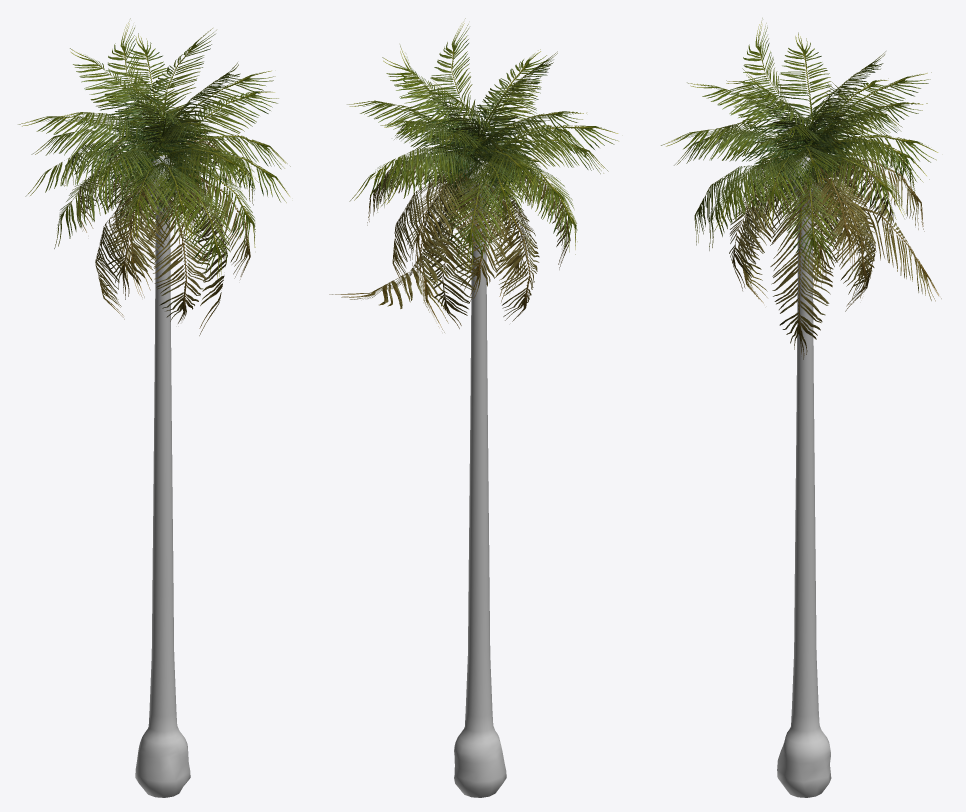
The model's file is SM_Veg_PalmTree_01.FBX.
The picture shows the model from 3 angles, left to right: view 1: azimuth 30°, elevation 25°; view 2: azimuth 150°, elevation 25°; view 3: azimuth 270°, elevation 25°; orthographic projection.
Parts seen in each view (by area): view 1: SM_Veg_PalmTree_01_LOD0; view 2: SM_Veg_PalmTree_01_LOD0; view 3: SM_Veg_PalmTree_01_LOD0.
Part boxes in pixels (x1,y1,x2,y2): SM_Veg_PalmTree_01_LOD0: [18, 18, 290, 797]; SM_Veg_PalmTree_01_LOD0: [329, 18, 618, 797]; SM_Veg_PalmTree_01_LOD0: [661, 18, 941, 797].
Size of what is drawn, in the model's own units: 8.73 by 25.01 by 8.96.
